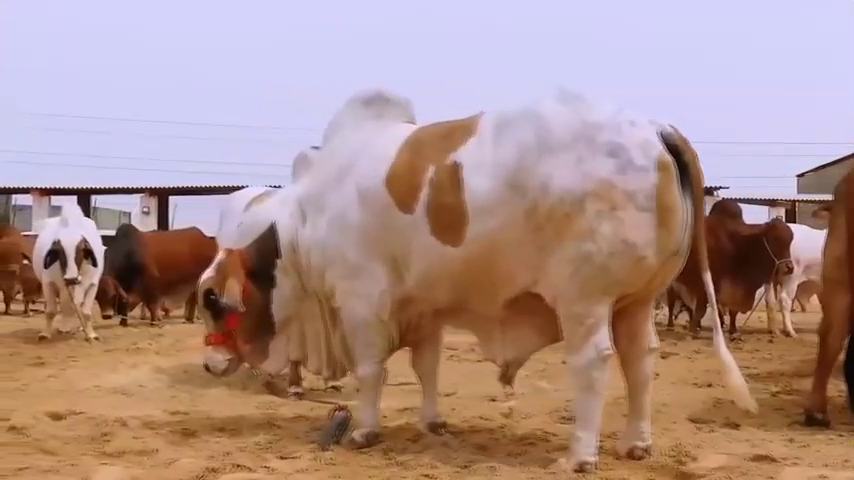bo: (196, 79, 765, 470), (87, 190, 225, 347), (668, 181, 795, 333), (26, 170, 102, 345), (808, 155, 854, 435), (769, 203, 829, 343), (1, 198, 39, 328)
